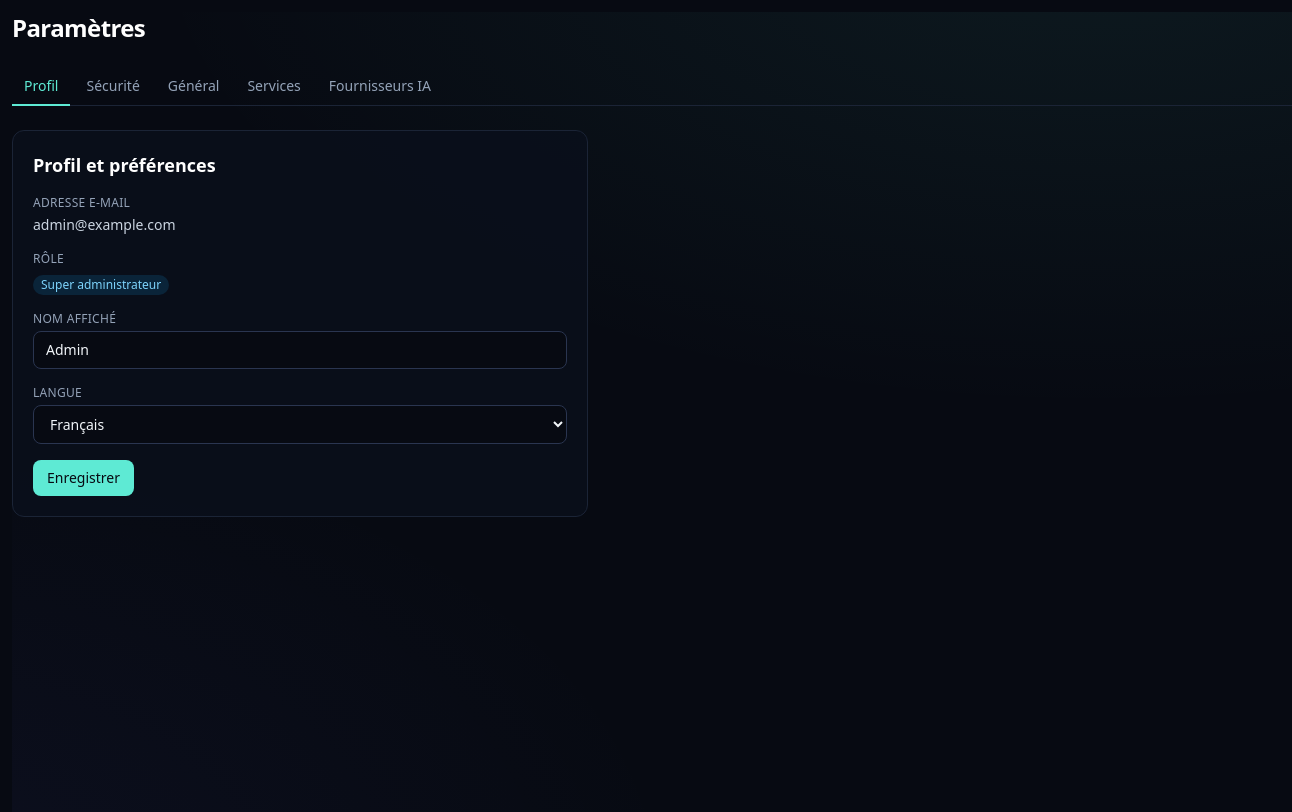
it: SettingsView — 2FA › indique l'indisponibilité sans clé serveur et ne propose pas l'activation
The image size is (1292, 812).
Click the tab "Sécurité" at point(113, 87), box [74, 68, 152, 106]
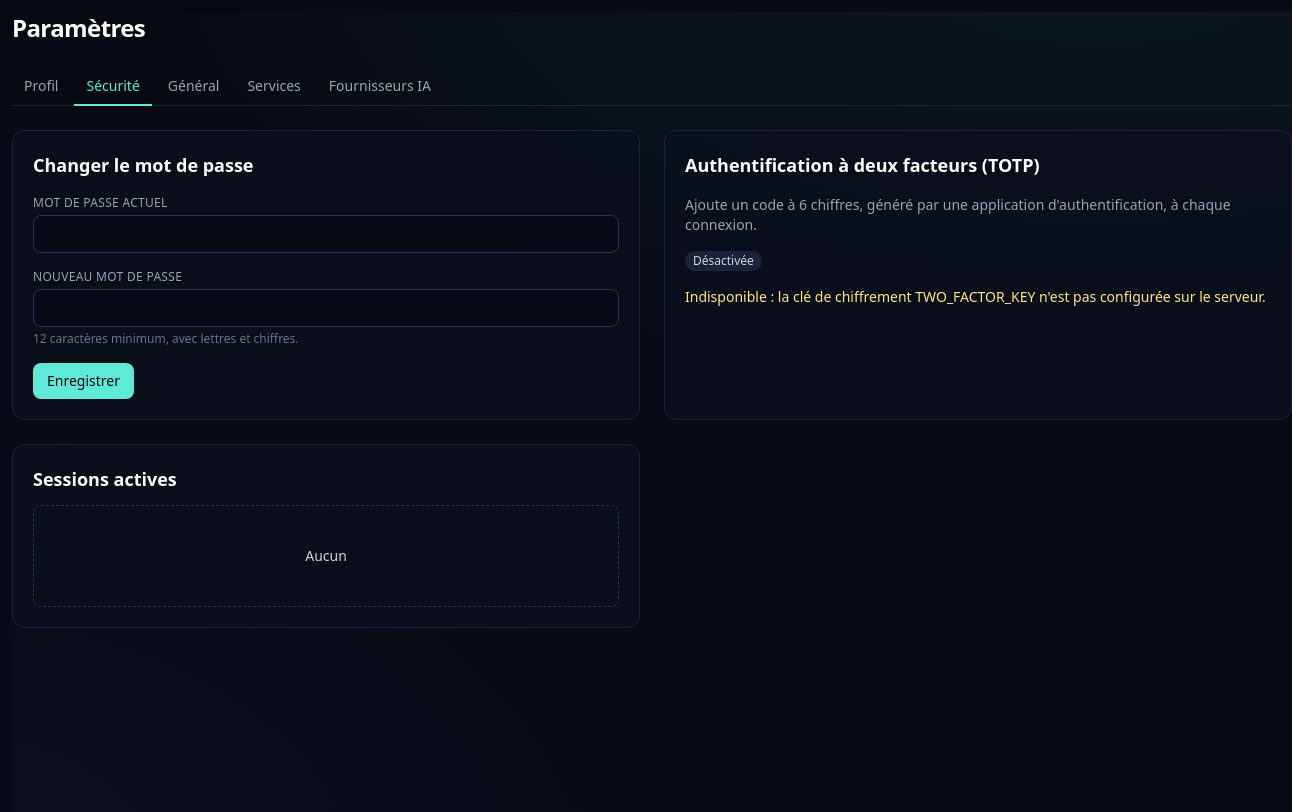
Expected: the heading "Authentification à deux facteurs (TOTP)" is shown, [685, 153, 1040, 177]
Expected: the text "TWO_FACTOR_KEY" is shown, [685, 287, 1266, 306]
